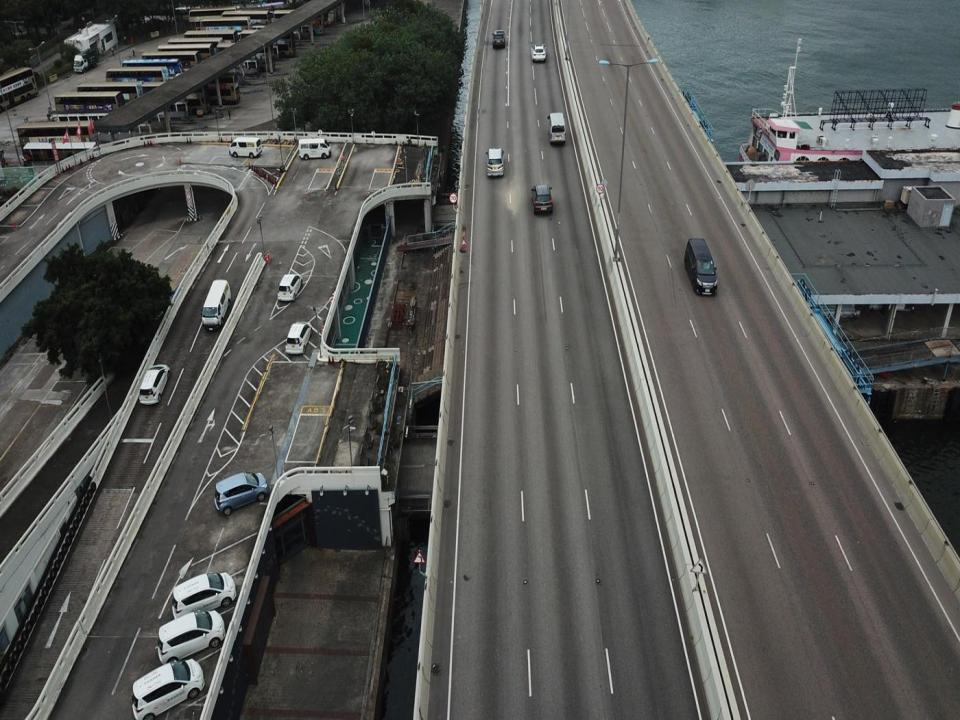bus: (16, 119, 92, 164), (51, 88, 125, 132), (102, 61, 169, 104), (77, 80, 144, 121), (140, 49, 201, 83), (122, 56, 182, 90), (182, 27, 238, 63), (168, 34, 224, 69), (186, 6, 238, 43), (0, 66, 38, 113), (153, 43, 212, 73), (198, 15, 252, 47), (221, 9, 271, 39)
car: (214, 470, 269, 516), (683, 237, 719, 298), (138, 364, 169, 404), (286, 319, 311, 356), (484, 146, 507, 178), (530, 184, 553, 216), (276, 273, 301, 302), (491, 29, 506, 52), (531, 42, 547, 62)
truck: (73, 46, 99, 74)
van: (132, 656, 204, 719), (156, 610, 225, 664), (170, 571, 235, 614), (200, 278, 230, 333), (298, 137, 331, 162), (228, 137, 260, 160), (547, 112, 567, 144)
